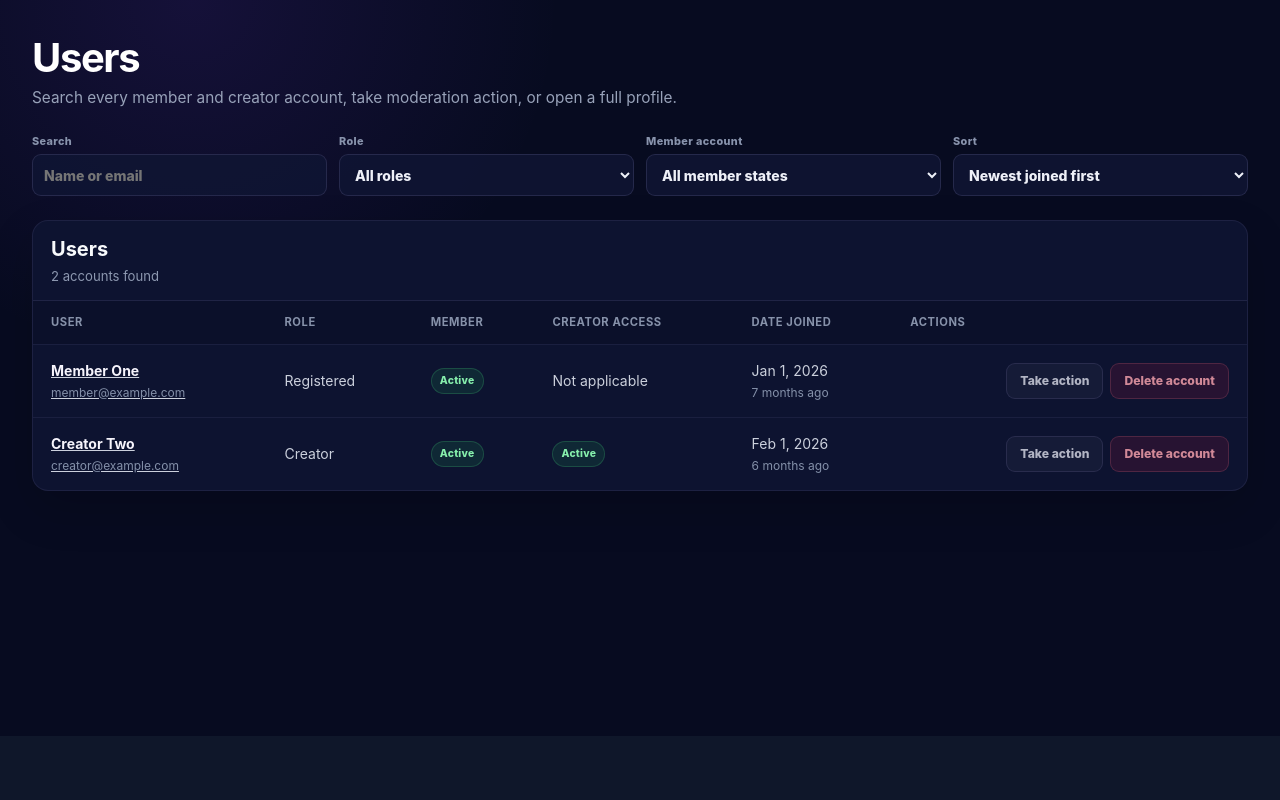
Scenario: Admin Users page › offers a creator-access option in Take action only for creator rows
Step 1. Click the button "Take action" in the row of "Member One" → (1055, 381), box [1006,363,1103,399]
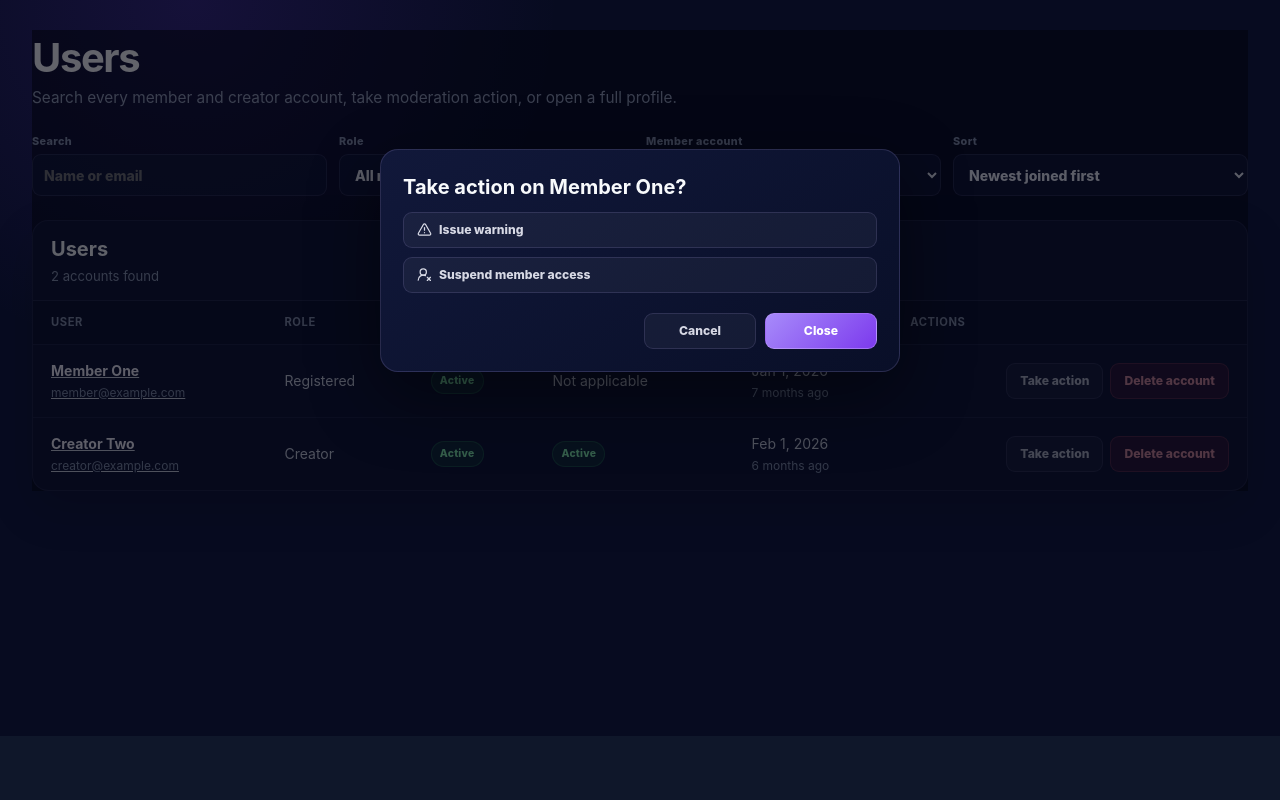
Step 2. Click the button "Close" → (821, 331), box [765,313,877,349]
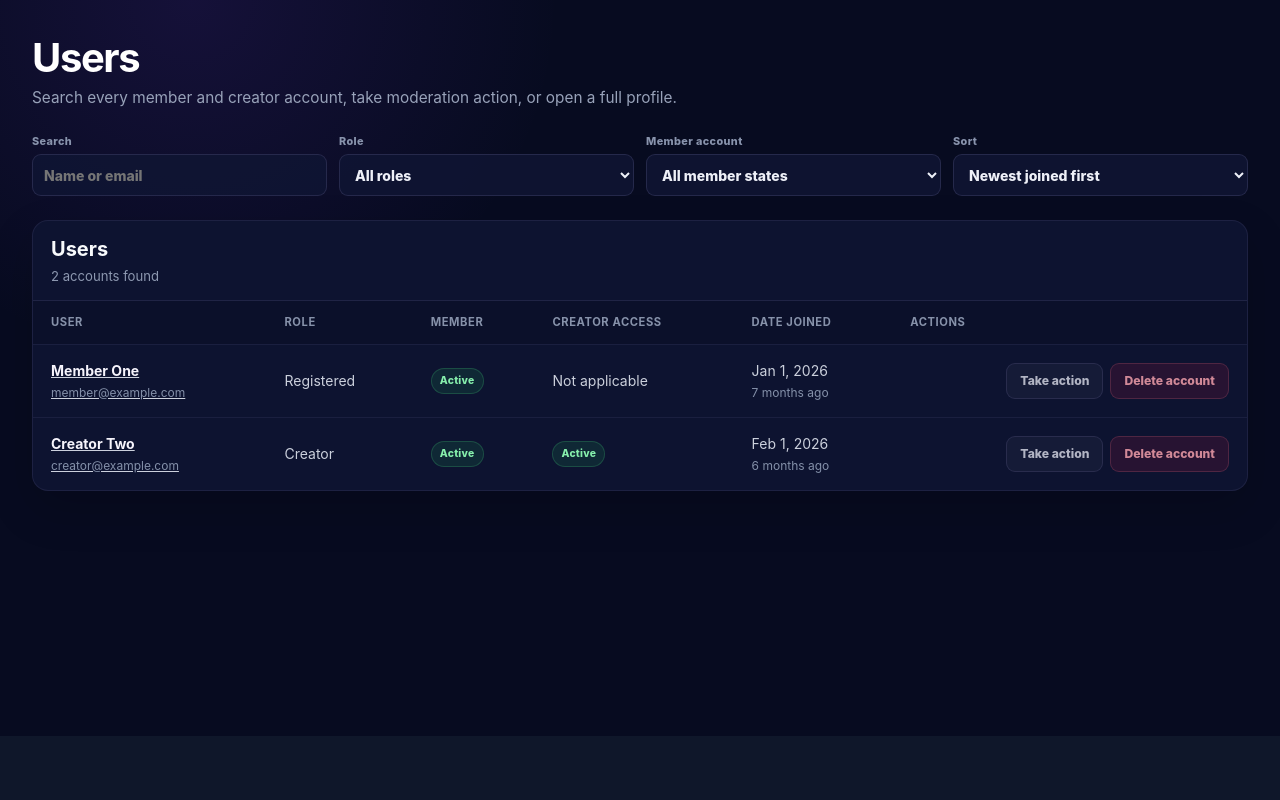
Step 3. Click the button "Take action" in the row of "Creator Two" → (1055, 454), box [1006,436,1103,472]
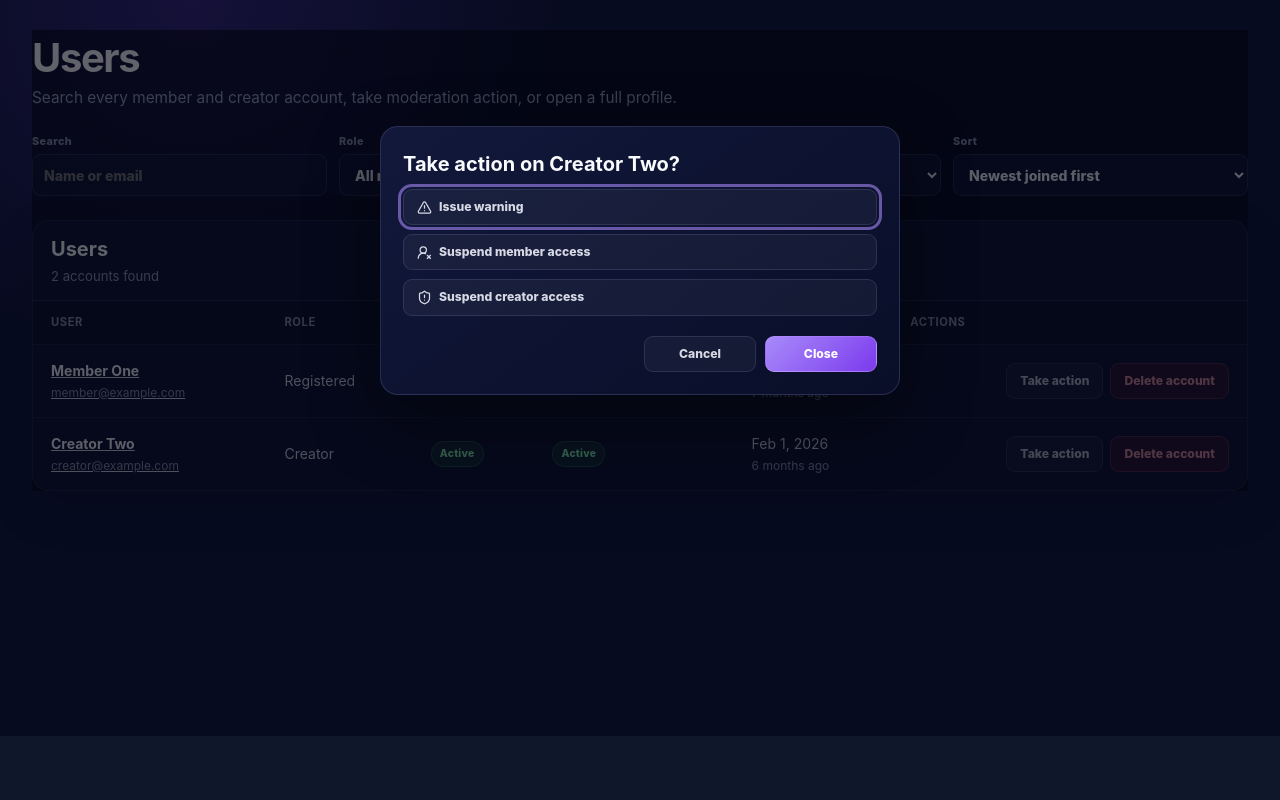
Expected: the button "Suspend creator access" is shown, [403,279,877,316]
